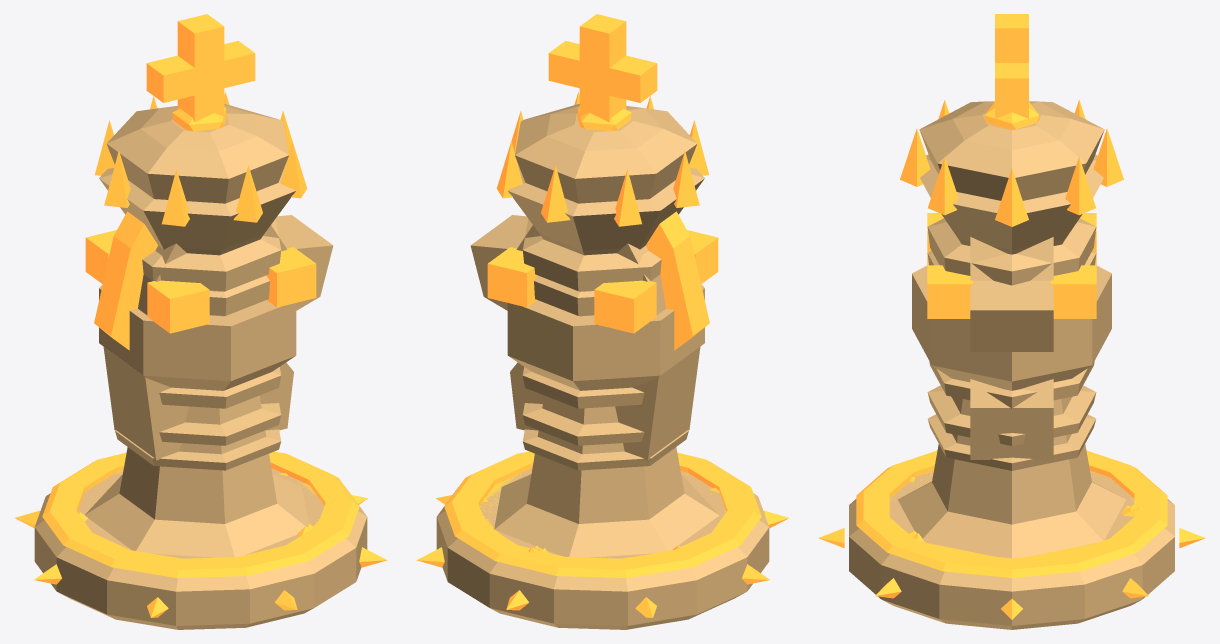
Rendered from magma.glb.
3 views of the same model, side by side, from view 1: azimuth 30°, elevation 25°; view 2: azimuth 150°, elevation 25°; view 3: azimuth 270°, elevation 25° (orthographic).
Parts seen in each view (by area): view 1: K, disc, R, N, Q, B, P; view 2: K, disc, R, N, Q, B, P; view 3: disc, K, R, N, Q, B, P.
Part boxes in pixels (x1,y1,x2,y2): K: (77, 14, 288, 523); disc: (15, 451, 387, 629); R: (85, 230, 316, 536); N: (94, 211, 333, 561); Q: (95, 92, 313, 529); B: (85, 245, 308, 557); P: (159, 403, 281, 445); K: (515, 14, 697, 549); disc: (416, 451, 788, 629); R: (483, 230, 718, 551); N: (470, 211, 724, 552); Q: (496, 92, 708, 552); B: (494, 245, 719, 557); P: (522, 403, 644, 551); disc: (818, 450, 1205, 629); K: (919, 14, 1134, 536); R: (907, 213, 1135, 537); N: (906, 237, 1129, 541); Q: (900, 100, 1143, 535); B: (897, 245, 1126, 558); P: (927, 385, 1096, 445).
Size of the model in its own units: 1.02 by 1.59 by 1.02.
